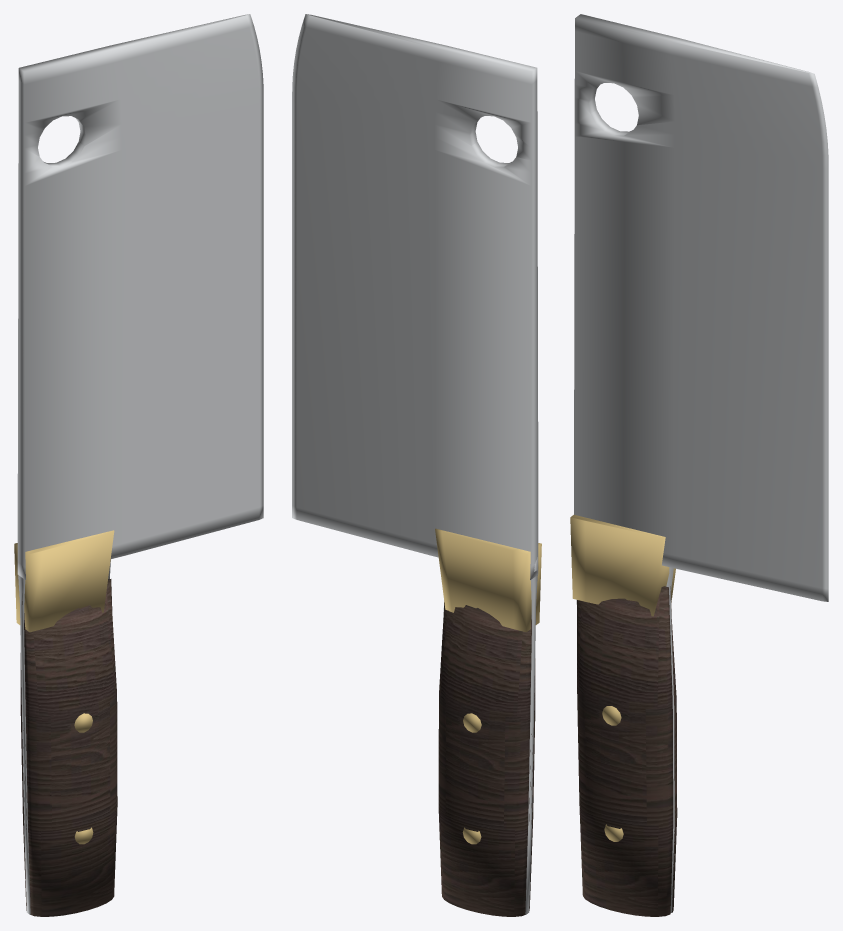
The model's file is cleaver.glb.
3 views of the same model, side by side, from view 1: azimuth 30°, elevation 25°; view 2: azimuth 150°, elevation 25°; view 3: azimuth 330°, elevation 25° (orthographic). The views are drawn at different scales.
Parts seen in each view (by area): view 1: cleaver_blade, cleaver_scale_b, cleaver_ferrule, cleaver_tang; view 2: cleaver_blade, cleaver_scale_a, cleaver_ferrule, cleaver_tang; view 3: cleaver_blade, cleaver_scale_b, cleaver_ferrule, cleaver_scale_a, cleaver_tang.
Boxes of the visible parts, left/top/right/bottom form: cleaver_blade: left=17, top=14, right=263, bottom=579; cleaver_scale_b: left=22, top=579, right=117, bottom=916; cleaver_ferrule: left=14, top=530, right=114, bottom=632; cleaver_tang: left=18, top=559, right=110, bottom=914; cleaver_blade: left=292, top=14, right=538, bottom=579; cleaver_scale_a: left=438, top=602, right=531, bottom=916; cleaver_ferrule: left=435, top=528, right=541, bottom=632; cleaver_tang: left=443, top=557, right=537, bottom=914; cleaver_blade: left=574, top=14, right=828, bottom=601; cleaver_scale_b: left=577, top=586, right=673, bottom=916; cleaver_ferrule: left=570, top=514, right=675, bottom=616; cleaver_scale_a: left=670, top=586, right=677, bottom=912; cleaver_tang: left=576, top=567, right=674, bottom=912.
Bounding box in the file's own units: 0.09 × 0.3 × 0.0191.
3 materials, 1 textured.
